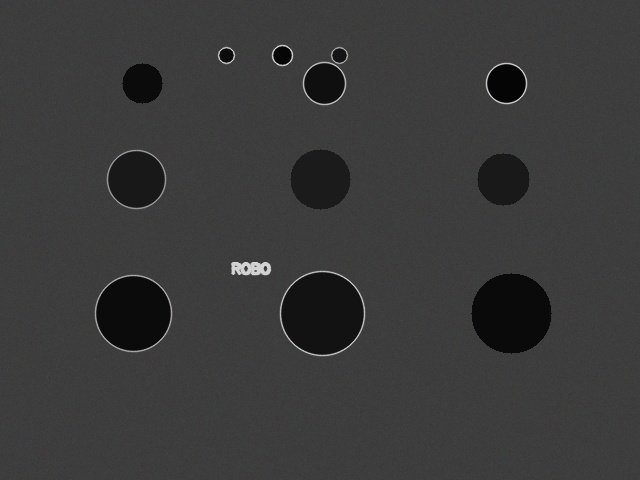hole: (280, 271, 364, 355), (471, 273, 551, 353), (95, 275, 171, 351), (290, 149, 350, 209), (107, 150, 165, 208), (477, 153, 529, 205), (303, 62, 345, 104), (122, 63, 162, 103), (486, 63, 526, 103), (272, 45, 292, 65), (218, 47, 234, 63), (331, 47, 347, 63)
